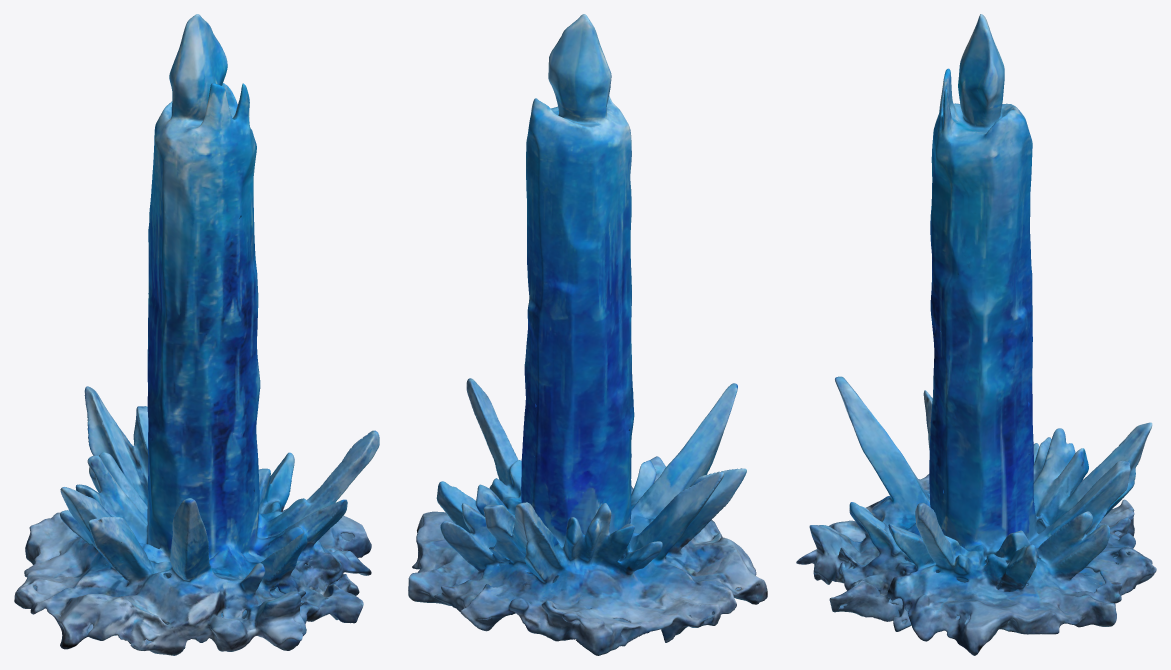
Rendered from water-tower.glb.
The picture shows the model from 3 angles, left to right: view 1: azimuth 30°, elevation 25°; view 2: azimuth 150°, elevation 25°; view 3: azimuth 270°, elevation 25°; orthographic projection. The views are drawn at different scales.
Visible parts, largest first — view 1: Mesh_0; view 2: Mesh_0; view 3: Mesh_0.
Part boxes in pixels (bbox=[...]): Mesh_0: bbox=[14, 14, 379, 655]; Mesh_0: bbox=[408, 14, 767, 655]; Mesh_0: bbox=[796, 14, 1156, 655].
Bounding box in the file's own units: 1.19 × 2 × 1.15.
1 material, 1 textured.
